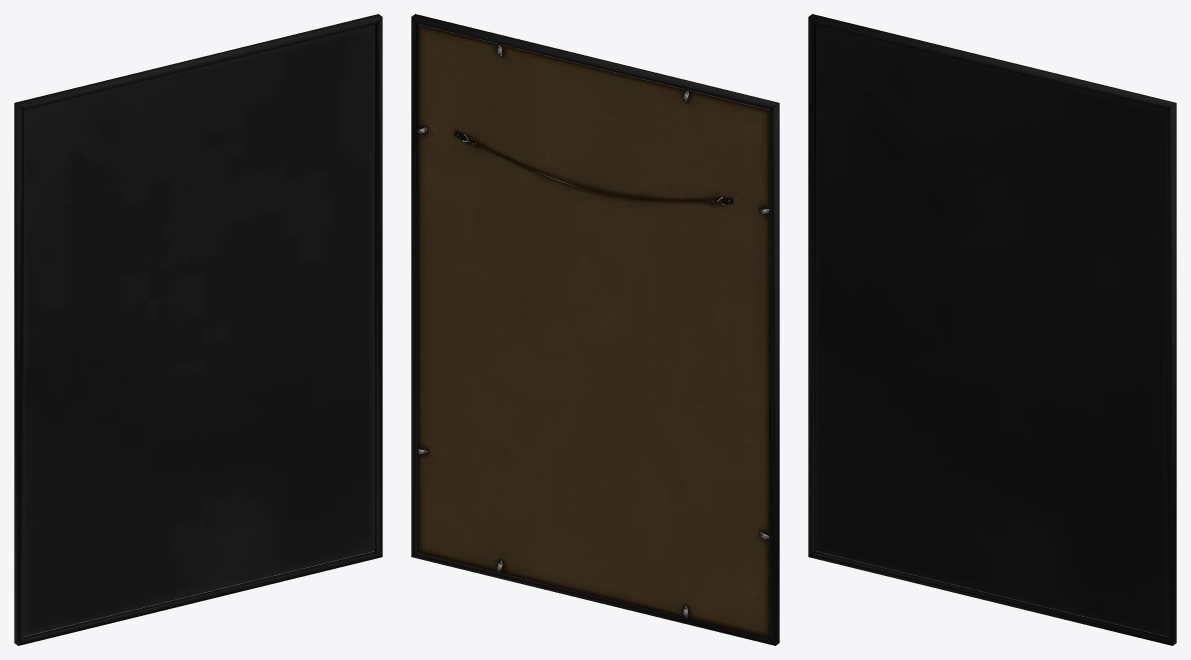
The model's file is art-modern.glb.
3 views of the same model, side by side, from view 1: azimuth 30°, elevation 25°; view 2: azimuth 150°, elevation 25°; view 3: azimuth 330°, elevation 25° (orthographic).
Visible parts, largest first — view 1: hanging_picture_frame_01; view 2: hanging_picture_frame_01; view 3: hanging_picture_frame_01.
Boxes of the visible parts, box(x1,y1,x2,y2) form: hanging_picture_frame_01: box(14, 14, 382, 645); hanging_picture_frame_01: box(411, 14, 779, 645); hanging_picture_frame_01: box(808, 14, 1176, 645).
Bounding box in the file's own units: 0.5917 × 0.8387 × 0.0135.
Materials: 3 (3 with a texture image).
